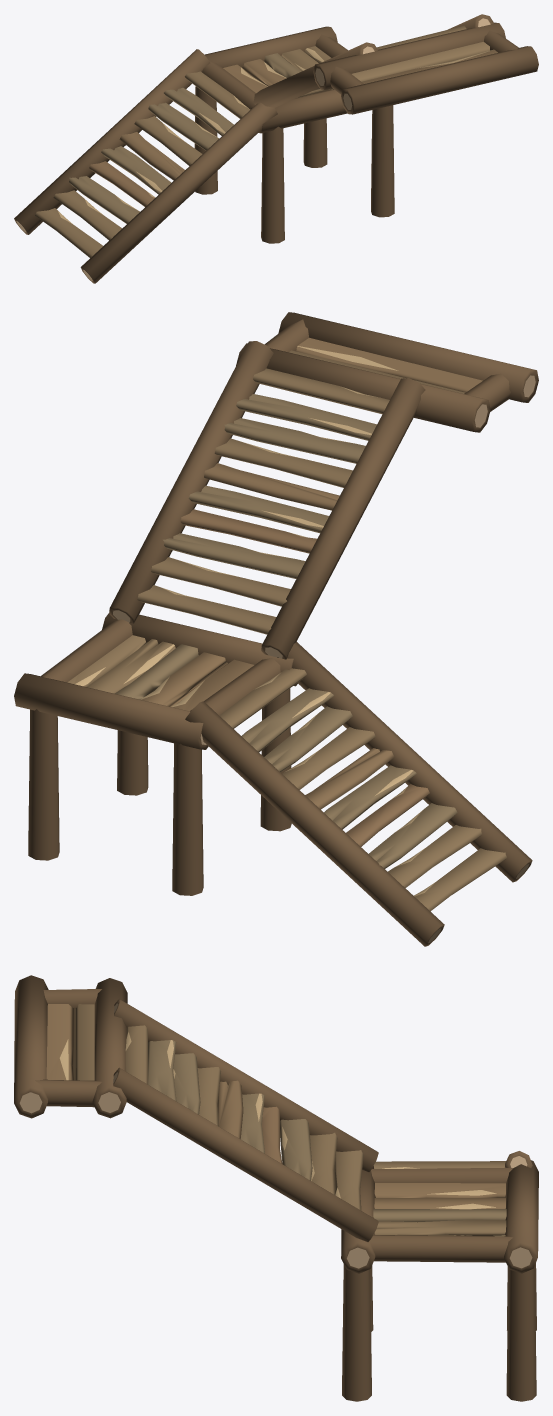
The model's file is rpgpp_ag_stairs_interior_02c_4m.fbx.
3 views of the same model, one above another, from view 1: azimuth 30°, elevation 25°; view 2: azimuth 150°, elevation 25°; view 3: azimuth 270°, elevation 25° (orthographic). The views are drawn at different scales.
Visible parts, largest first — view 1: rpgpp_ag_stairs_interior_02c_4m; view 2: rpgpp_ag_stairs_interior_02c_4m; view 3: rpgpp_ag_stairs_interior_02c_4m.
Boxes of the visible parts, x1,y1,x2,y2 form: rpgpp_ag_stairs_interior_02c_4m: (14,14,538,283); rpgpp_ag_stairs_interior_02c_4m: (14,312,538,946); rpgpp_ag_stairs_interior_02c_4m: (14,975,538,1401).
Bounding box in the file's own units: 5.22 × 4.22 × 6.13.
